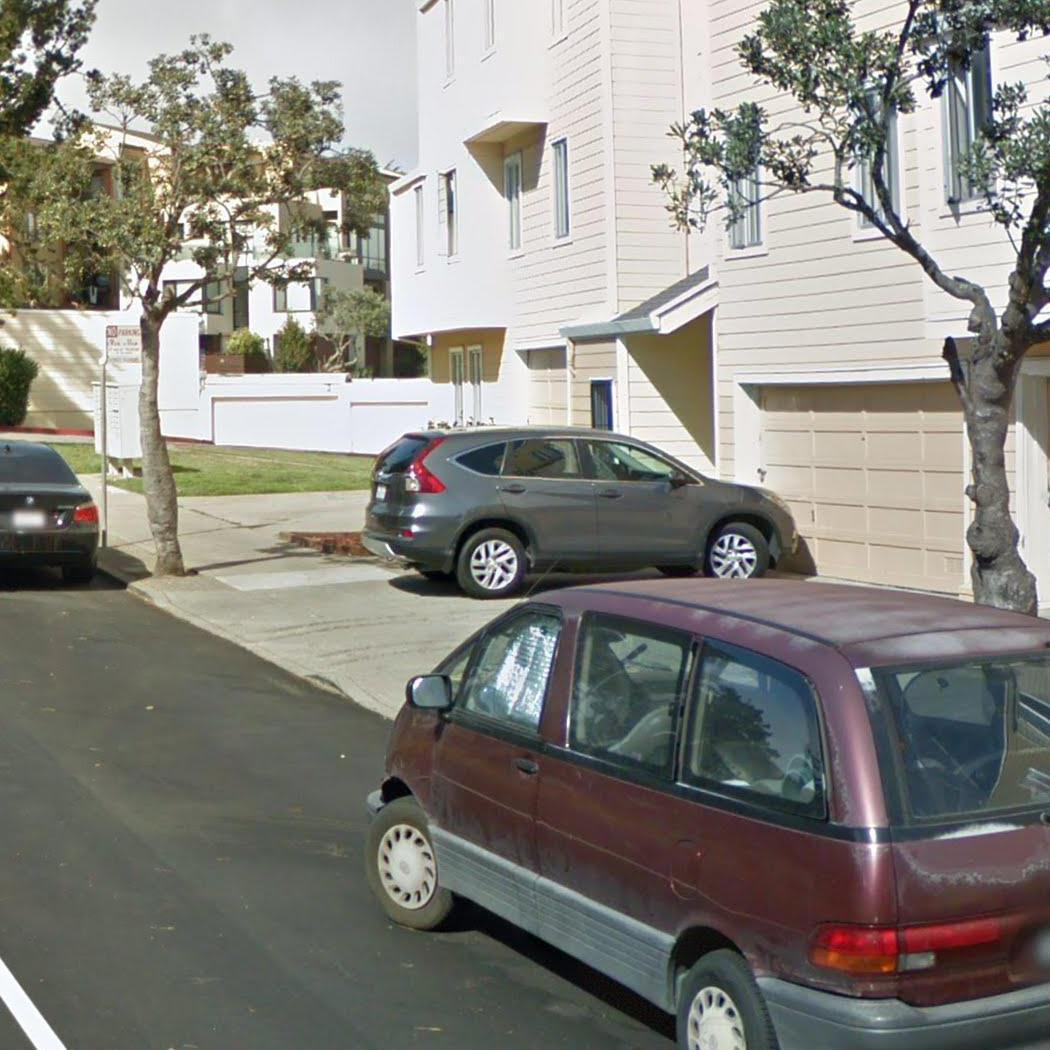No Parking: (105, 323, 143, 364)
